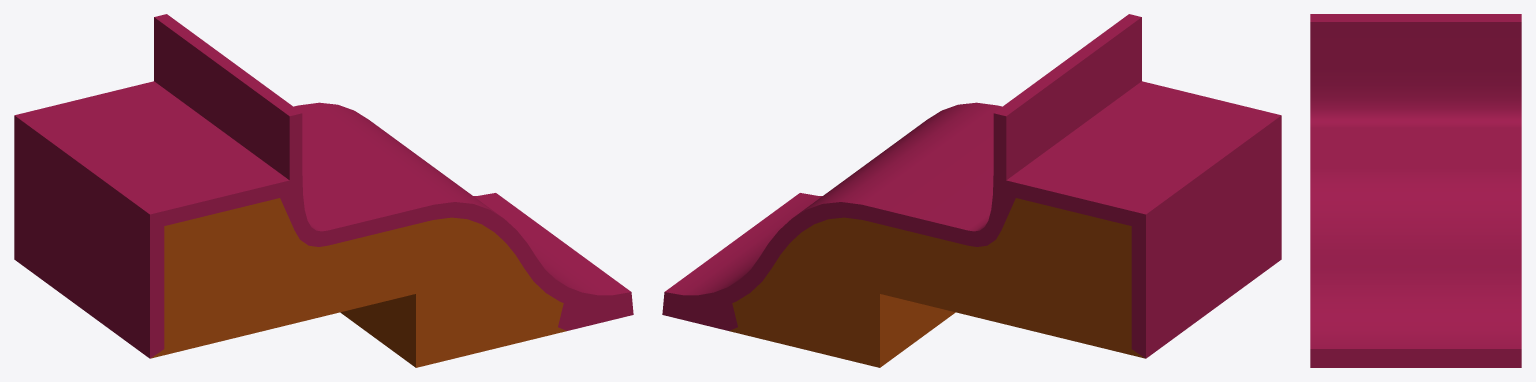
The model's file is GardenPlatform2.fbx.
The picture shows the model from 3 angles, left to right: view 1: azimuth 30°, elevation 25°; view 2: azimuth 150°, elevation 25°; view 3: azimuth 270°, elevation 25°; orthographic projection. The views are drawn at different scales.
Visible parts, largest first — view 1: GardenPlatform2; view 2: GardenPlatform2; view 3: GardenPlatform2.
Boxes of the visible parts, x1,y1,x2,y2 form: GardenPlatform2: [14, 14, 633, 367]; GardenPlatform2: [662, 14, 1281, 367]; GardenPlatform2: [1310, 14, 1521, 367].
Bounding box in the file's own units: 1397 × 779 × 678.
